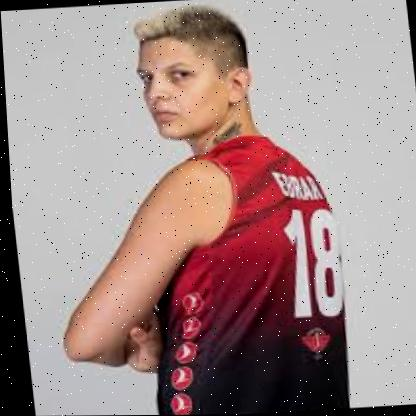person: (117, 6, 272, 150)
